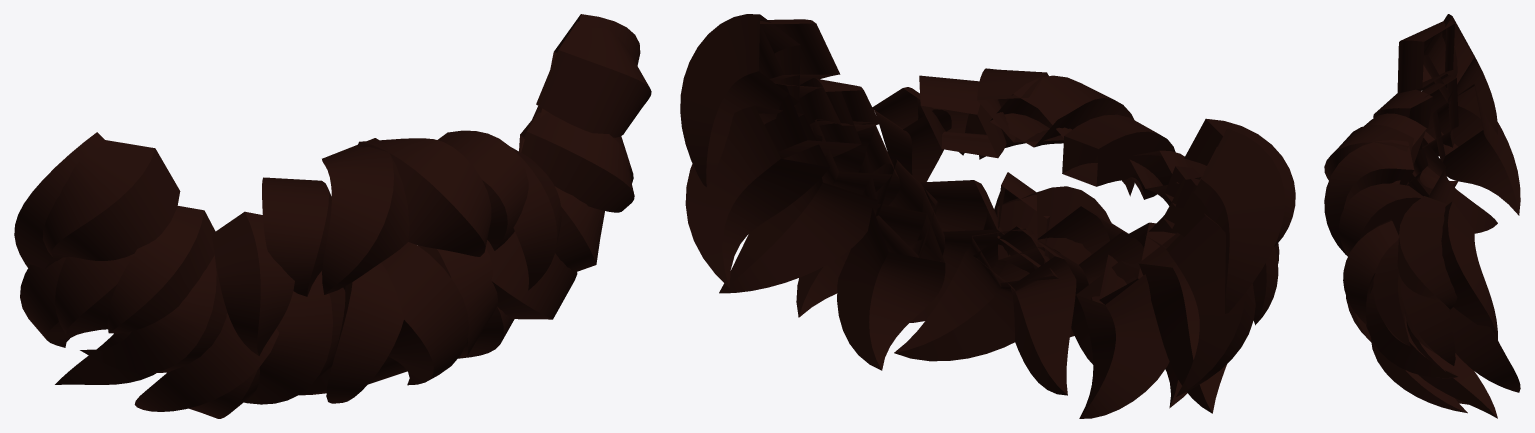
File: Beard_Scraggly.FBX
3 views of the same model, side by side, from view 1: azimuth 30°, elevation 25°; view 2: azimuth 150°, elevation 25°; view 3: azimuth 270°, elevation 25° (orthographic). The views are drawn at different scales.
Visible parts, largest first — view 1: Body; view 2: Body; view 3: Body.
Part boxes in pixels (x1=…): Body: x1=14, y1=14, x2=651, y2=418; Body: x1=680, y1=14, x2=1295, y2=418; Body: x1=1324, y1=14, x2=1520, y2=418.
Bounding box in the file's own units: 38.32 × 19.21 × 13.4.
